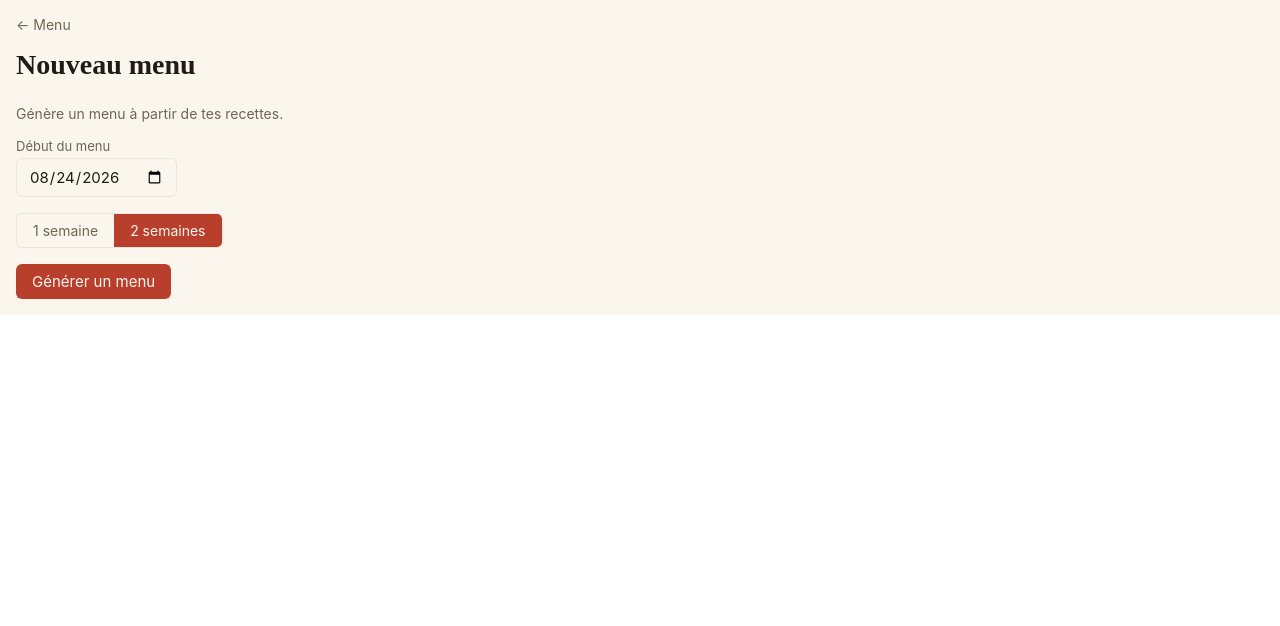
Test case: MenuCreateContainer › génère un menu de 14 jours (« 2 semaines ») par défaut au clic sur « Générer un menu »
This screenshot has width=1280, height=626.
Click the button "Générer un menu": (94, 282) left=16, top=264, right=171, bottom=299
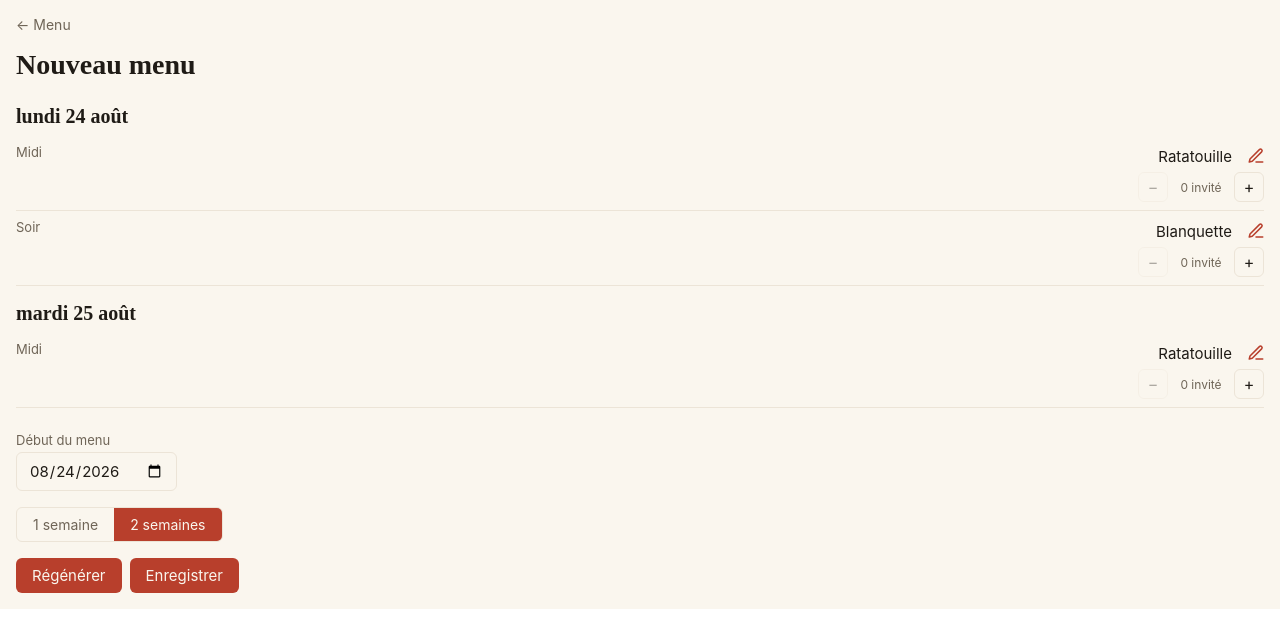
expect the heading "lundi 24 août" is shown: met, box left=16, top=105, right=128, bottom=127
